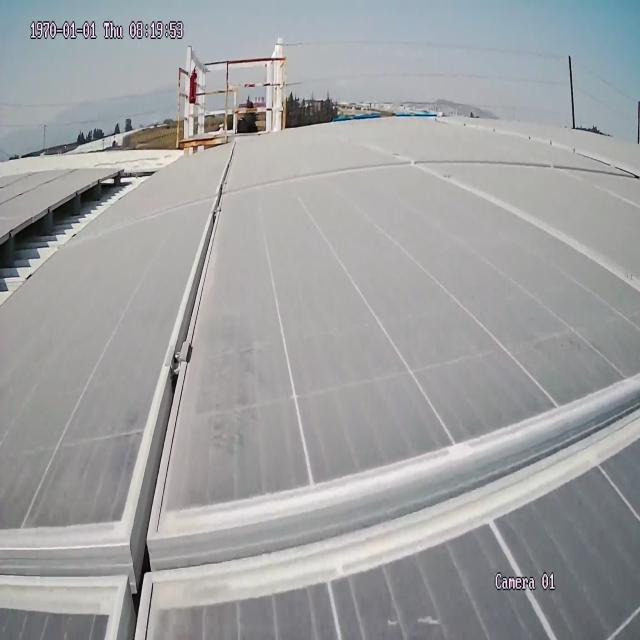interior panel: (0, 119, 638, 640)
outher panel: (0, 165, 162, 317)
